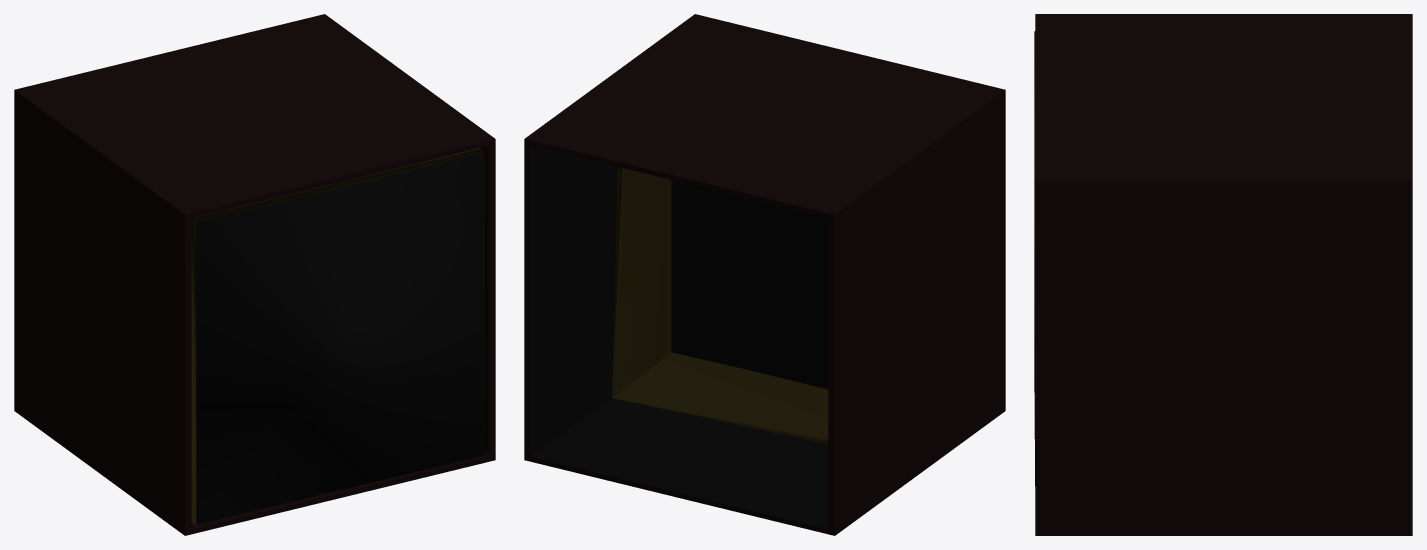
File: frameAmerican.glb
3 views of the same model, side by side, from view 1: azimuth 30°, elevation 25°; view 2: azimuth 150°, elevation 25°; view 3: azimuth 270°, elevation 25° (orthographic). The views are drawn at different scales.
Parts seen in each view (by area): view 1: Material2, A_PaintingMesh, Material3.003; view 2: Material2, Material3.004, Mat, A_PaintingMesh; view 3: Material2, A_PaintingMesh.
Boxes of the visible parts, x1=… form: Material2: x1=14, y1=14, x2=495, y2=535; A_PaintingMesh: x1=191, y1=148, x2=485, y2=524; Material3.003: x1=191, y1=145, x2=488, y2=529; Material2: x1=524, y1=14, x2=1005, y2=535; Material3.004: x1=531, y1=145, x2=828, y2=529; Mat: x1=671, y1=180, x2=828, y2=389; A_PaintingMesh: x1=612, y1=167, x2=828, y2=443; Material2: x1=1035, y1=14, x2=1412, y2=535; A_PaintingMesh: x1=1034, y1=31, x2=1035, y2=485.
Size of what is drawn, in the model's own units: 1.07 by 1.05 by 1.02.
Materials: 6 (1 with a texture image).
